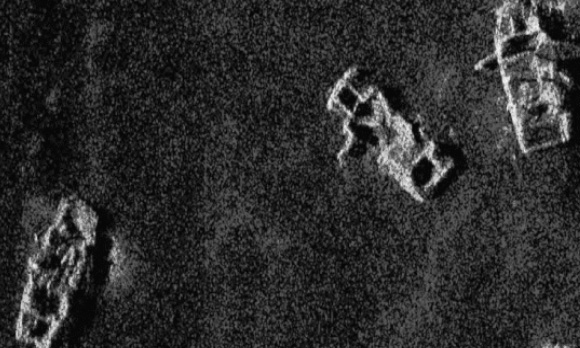ship: (324, 67, 458, 206), (479, 6, 574, 156), (13, 190, 99, 348)
